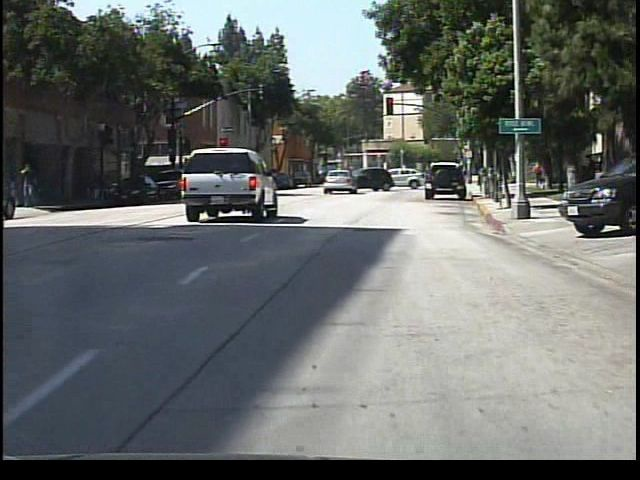person: (22, 160, 44, 209), (322, 161, 340, 191), (531, 158, 547, 190), (476, 155, 491, 183)
